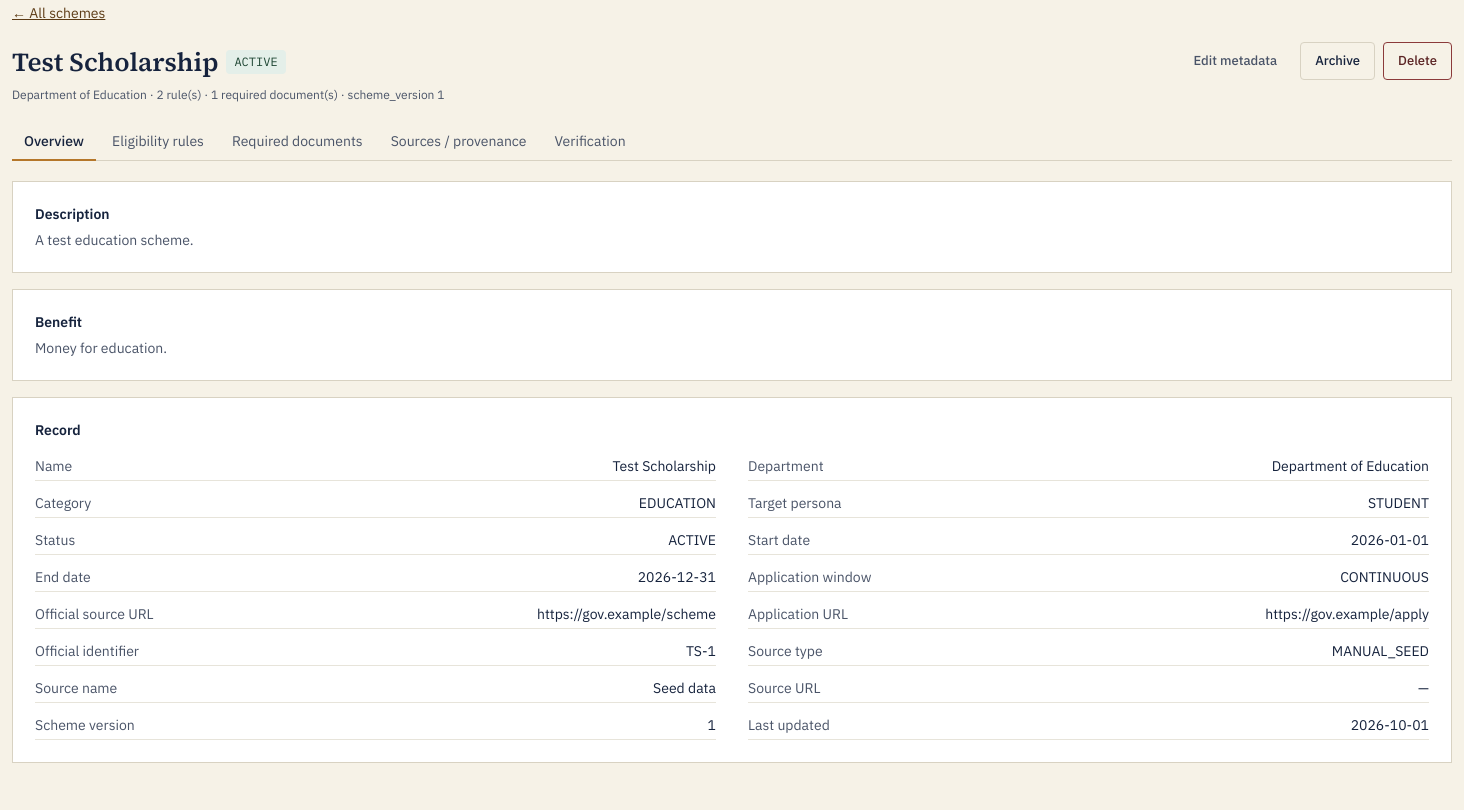
Test: rules tab › lists groups with rules and their provenance citations
Expected: the heading "Test Scholarship" is shown, [12, 42, 218, 83]
Click the button "Eligibility rules": (158, 142) [100, 123, 216, 161]
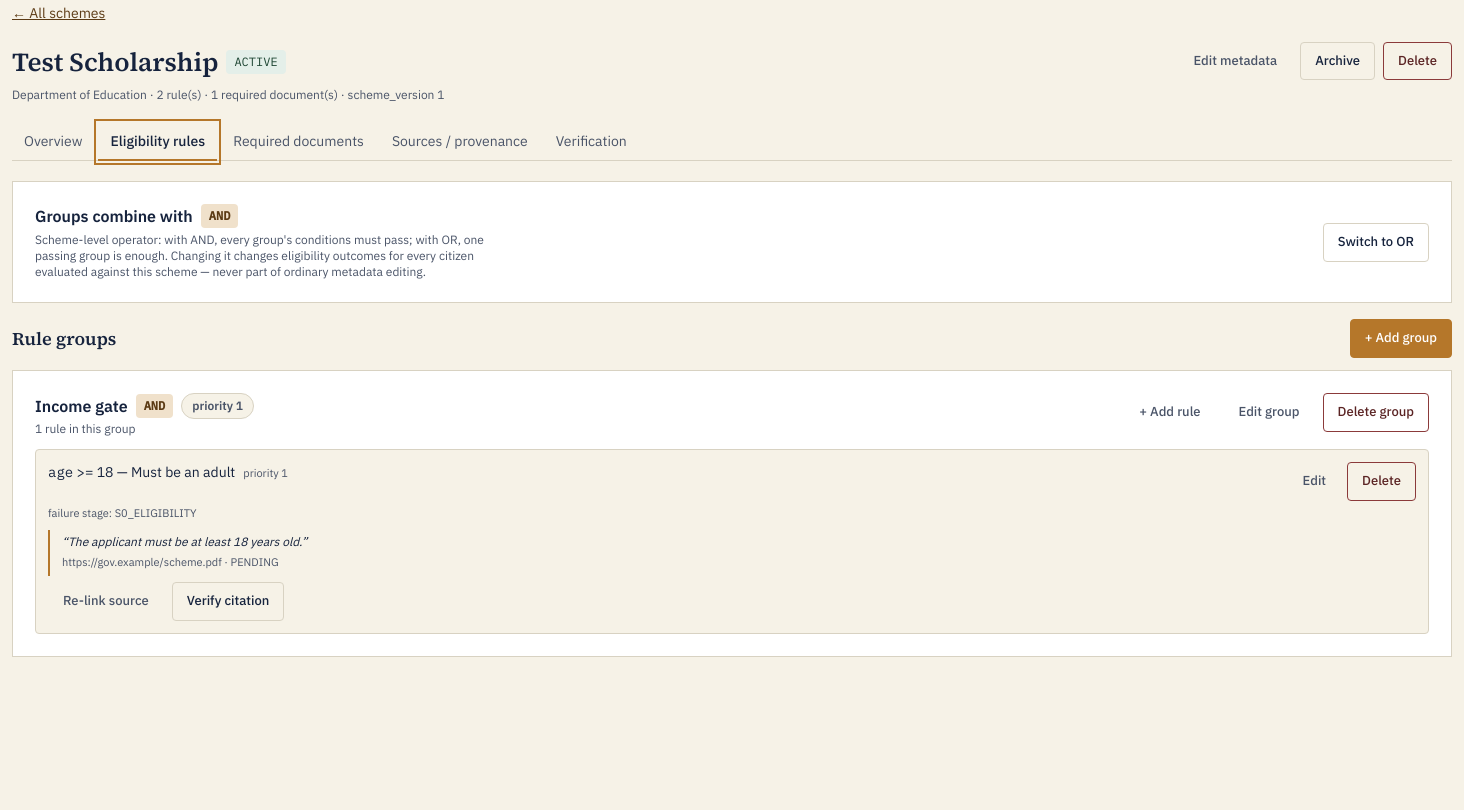
Now the heading "Income gate AND priority 1" is shown, box [35, 393, 254, 419]
